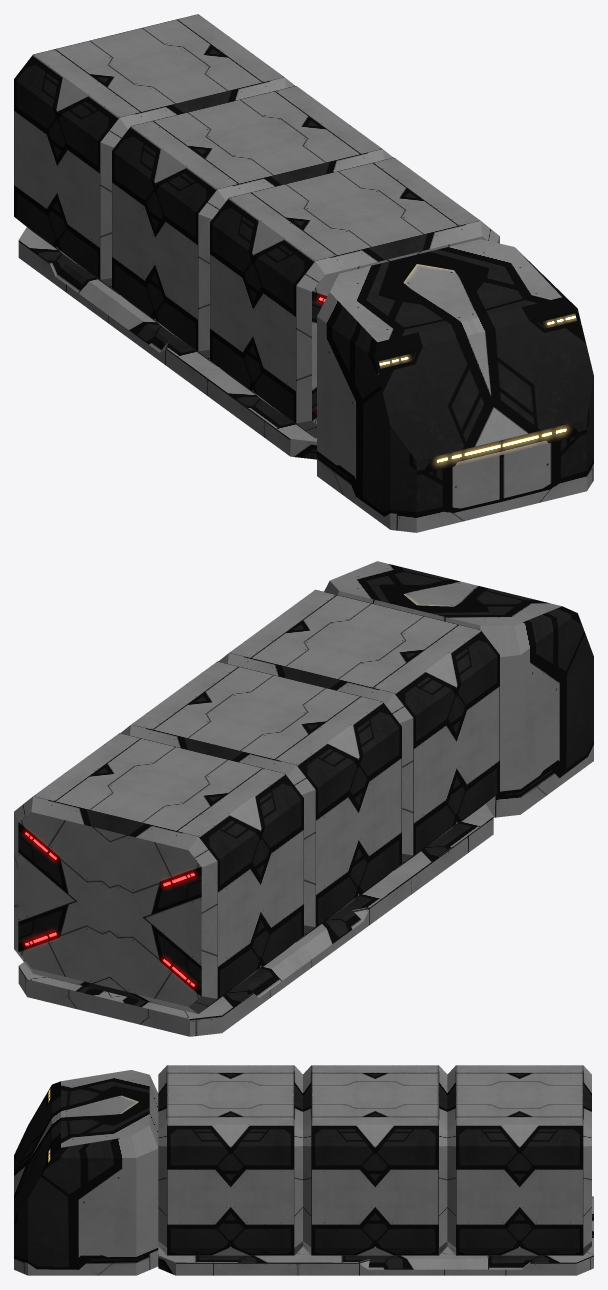
Rendered from city_car_05.glb.
3 renders of one model, top to bottom at view 1: azimuth 30°, elevation 25°; view 2: azimuth 150°, elevation 25°; view 3: azimuth 270°, elevation 25°, orthographic. The views are drawn at different scales.
Parts seen in each view (by area): view 1: sci-fi_LODs_set_004_03; view 2: sci-fi_LODs_set_004_03; view 3: sci-fi_LODs_set_004_03.
Part boxes in pixels (x1,y1,x2,y2): sci-fi_LODs_set_004_03: (14, 14, 593, 532); sci-fi_LODs_set_004_03: (14, 561, 593, 1036); sci-fi_LODs_set_004_03: (14, 1065, 593, 1275).
Size of the model in its own units: 2.4 by 2.2 by 8.03.
Materials: 2 (1 with a texture image).
